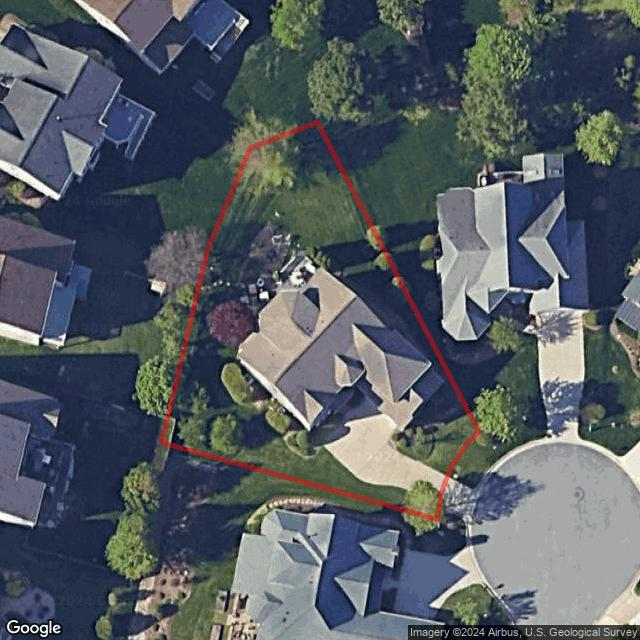Driveway: (321, 396, 448, 499)
Extra-Driveway: (439, 475, 474, 512)
Extra-Lawn: (449, 432, 497, 489), (436, 499, 467, 529)
House: (233, 265, 448, 431)
Lawn: (162, 122, 479, 519)
Other: (167, 222, 462, 463), (222, 358, 346, 459), (162, 415, 243, 461)
Sidewalk: (325, 388, 355, 420)
